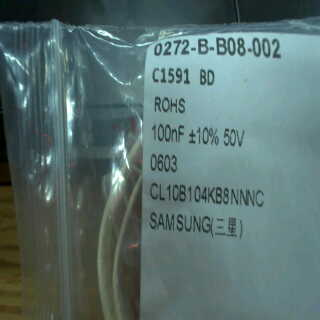100nF: (150, 121, 186, 146)
